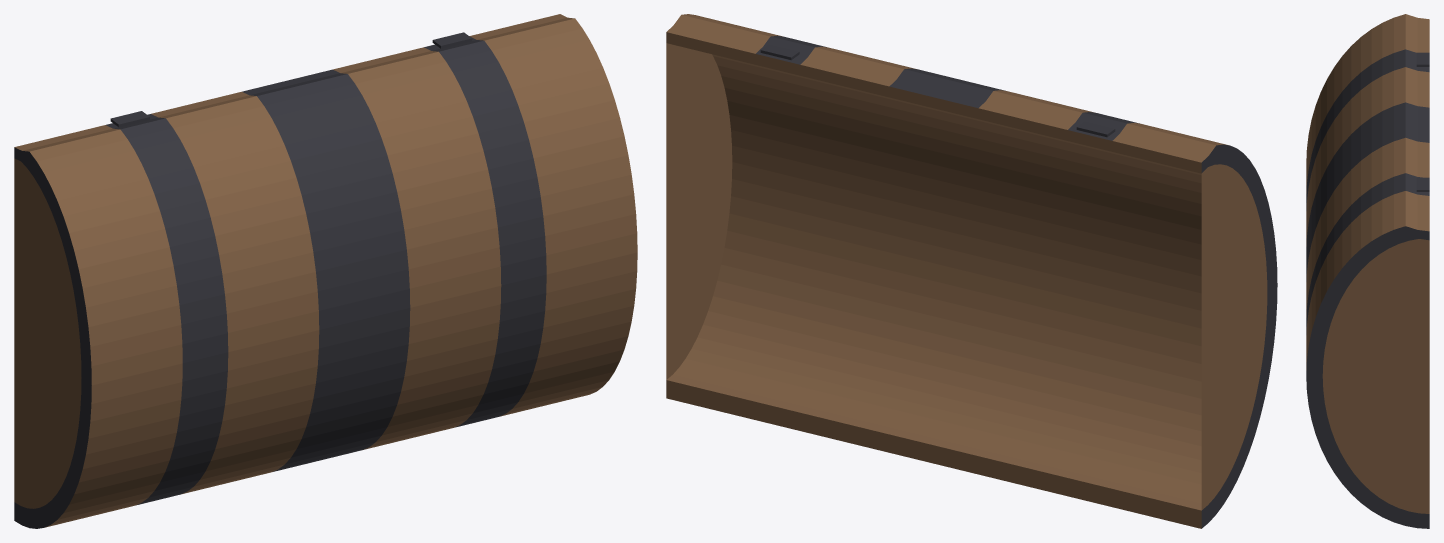
Rendered from domed_lid.glb.
The picture shows the model from 3 angles, left to right: view 1: azimuth 30°, elevation 25°; view 2: azimuth 150°, elevation 25°; view 3: azimuth 270°, elevation 25°; orthographic projection. The views are drawn at different scales.
Parts seen in each view (by area): view 1: domed_lid.001; view 2: domed_lid.001; view 3: domed_lid.001.
Boxes of the visible parts, left/top/right/bottom form: domed_lid.001: left=14, top=14, right=637, bottom=528; domed_lid.001: left=666, top=14, right=1277, bottom=528; domed_lid.001: left=1306, top=14, right=1429, bottom=528.
Size of the model in its own units: 0.61 by 0.4061 by 0.15.
